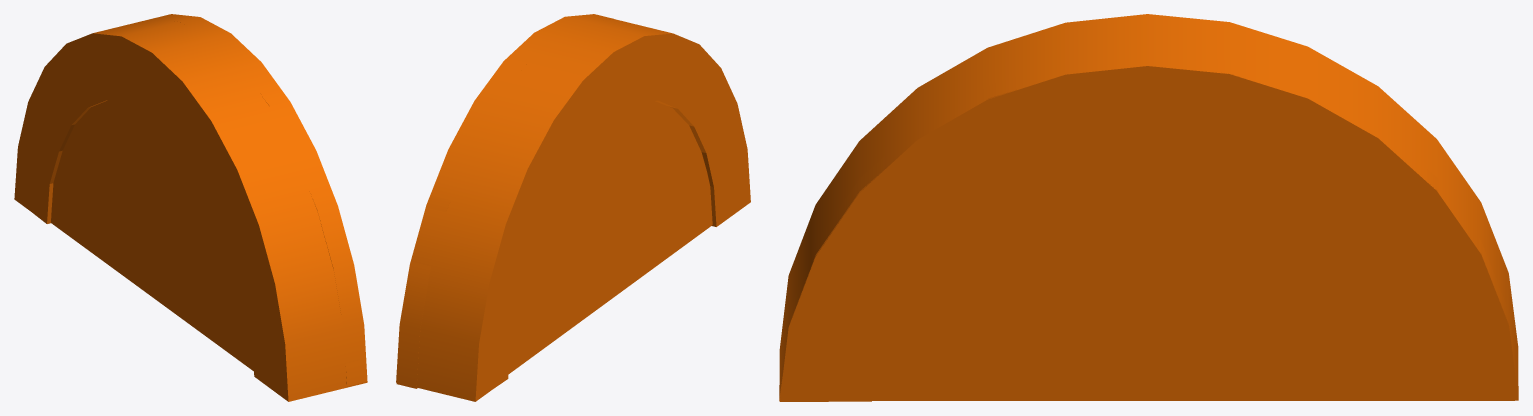
Rendered from _ortal.fbx.
3 renders of one model, left to right at view 1: azimuth 30°, elevation 25°; view 2: azimuth 150°, elevation 25°; view 3: azimuth 270°, elevation 25°, orthographic. The views are drawn at different scales.
Parts seen in each view (by area): view 1: Box001, Teleporter; view 2: Box001, Teleporter; view 3: Box001.
Boxes of the visible parts, x1,y1,x2,y2 form: Box001: (14, 14, 367, 401); Teleporter: (51, 100, 253, 371); Box001: (396, 14, 750, 401); Teleporter: (508, 101, 712, 373); Box001: (779, 14, 1518, 401).
Size of the model in its own units: 27.61 by 83.21 by 166.
